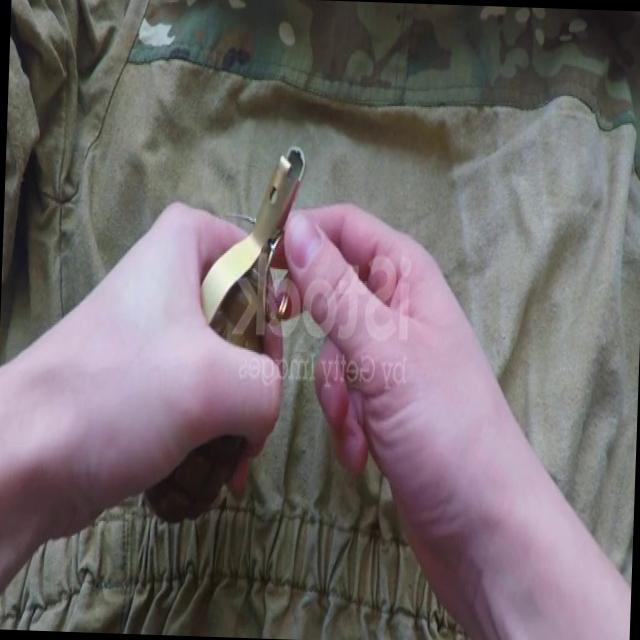grenade: (138, 140, 308, 532)
